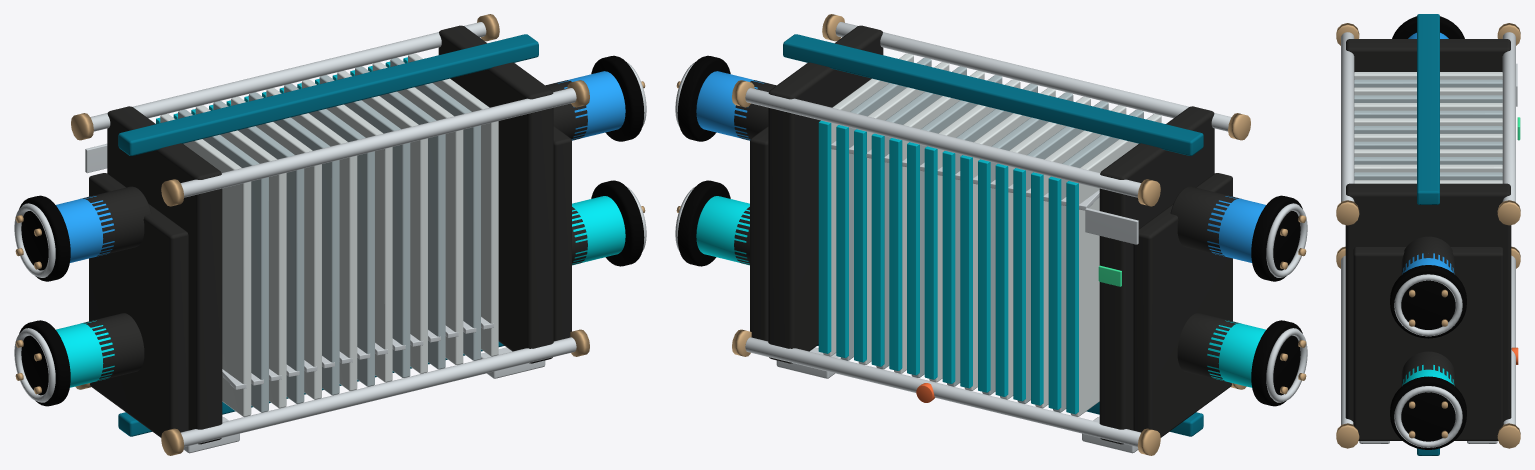
Rendered from heat-exchanger.glb.
3 renders of one model, left to right at view 1: azimuth 30°, elevation 25°; view 2: azimuth 150°, elevation 25°; view 3: azimuth 270°, elevation 25°, orthographic. The views are drawn at different scales.
Visible parts, largest first — view 1: right movable pressure plate, left frame upright shadow, left fixed pressure plate, top blue compression rail, corrugated transfer plate 0, rear top tie rod, rear bottom tie rod, front top tie rod, corrugated transfer plate 9, corrugated transfer plate 6, corrugated transfer plate 3, corrugated transfer plate 12 (+25 smaller); view 2: right movable pressure plate, left frame upright shadow, left fixed pressure plate, top blue compression rail, front top tie rod, front bottom tie rod, rear top tie rod, corrugated transfer plate 0, right frame upright shadow, front gasket stripe 1, front gasket stripe 4, front gasket stripe 14 (+40 smaller); view 3: right frame upright shadow, right movable pressure plate, top blue compression rail, left fixed pressure plate, primary out dark flange, secondary out dark flange, front top tie rod, rear top tie rod, secondary out metal lip, primary out metal lip, primary out black gasket neck, corrugated transfer plate 2 (+26 smaller).
Part boxes in pixels (x1,y1,x2,y2): right movable pressure plate: (438,25,553,363); left frame upright shadow: (89,173,188,437); left fixed pressure plate: (107,106,222,444); top blue compression rail: (118,34,538,155); corrugated transfer plate 0: (160,114,251,416); rear top tie rod: (180,88,576,197); rear bottom tie rod: (181,337,576,446); front top tie rod: (90,22,486,131); corrugated transfer plate 9: (319,75,410,377); corrugated transfer plate 6: (266,88,357,390); corrugated transfer plate 3: (213,101,304,403); corrugated transfer plate 12: (372,62,463,364); right movable pressure plate: (768,25,883,363); left frame upright shadow: (1133,173,1232,437); left fixed pressure plate: (1099,106,1214,444); top blue compression rail: (783,34,1203,155); front top tie rod: (745,88,1141,197); front bottom tie rod: (745,337,1140,446); rear top tie rod: (835,22,1231,131); corrugated transfer plate 0: (1070,114,1161,416); right frame upright shadow: (750,126,768,341); front gasket stripe 1: (1048,176,1061,409); front gasket stripe 4: (995,163,1008,396); front gasket stripe 14: (818,120,831,353); right frame upright shadow: (1353,247,1503,440); right movable pressure plate: (1345,183,1511,421); top blue compression rail: (1417,14,1439,204); left fixed pressure plate: (1346,39,1510,71); primary out dark flange: (1390,265,1466,338); secondary out dark flange: (1390,376,1466,449); front top tie rod: (1502,32,1515,201); rear top tie rod: (1341,32,1354,201); secondary out metal lip: (1394,386,1462,447); primary out metal lip: (1394,274,1462,336); primary out black gasket neck: (1401,236,1455,274); corrugated transfer plate 2: (1354,87,1502,95).
Bounding box in the file's own units: 3.26 × 1.52 × 0.96.
